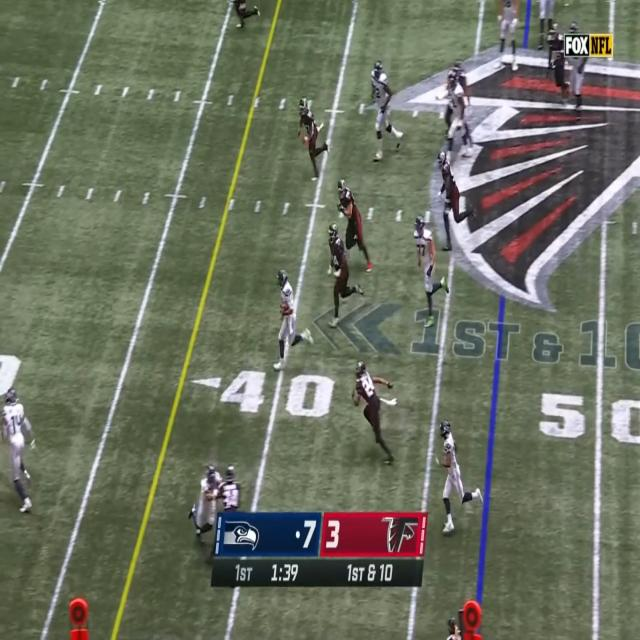football: (280, 303, 290, 314)
players: (350, 359, 398, 468), (438, 422, 482, 533), (1, 394, 34, 516), (414, 216, 449, 324), (438, 152, 476, 250), (275, 271, 310, 375), (334, 183, 371, 277), (371, 62, 405, 164), (326, 222, 357, 332), (188, 465, 226, 544), (300, 101, 330, 199), (545, 20, 571, 105), (446, 62, 470, 152), (567, 22, 588, 122), (218, 465, 244, 512), (225, 0, 262, 31)
